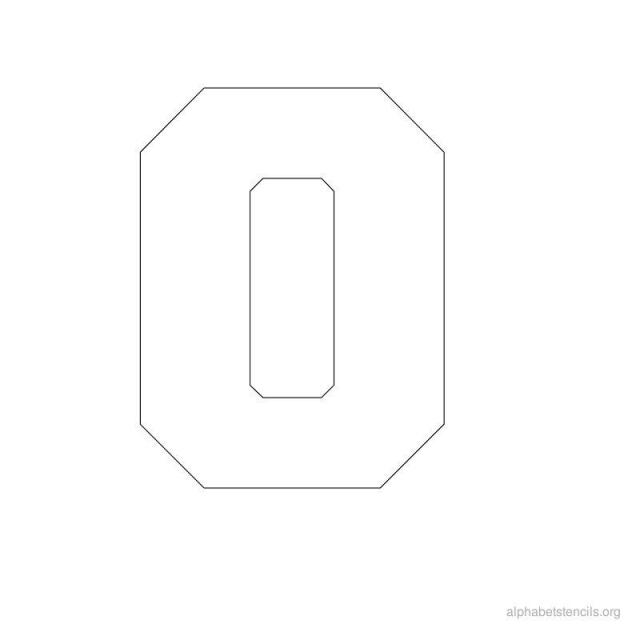O: (51, 60, 481, 530)
